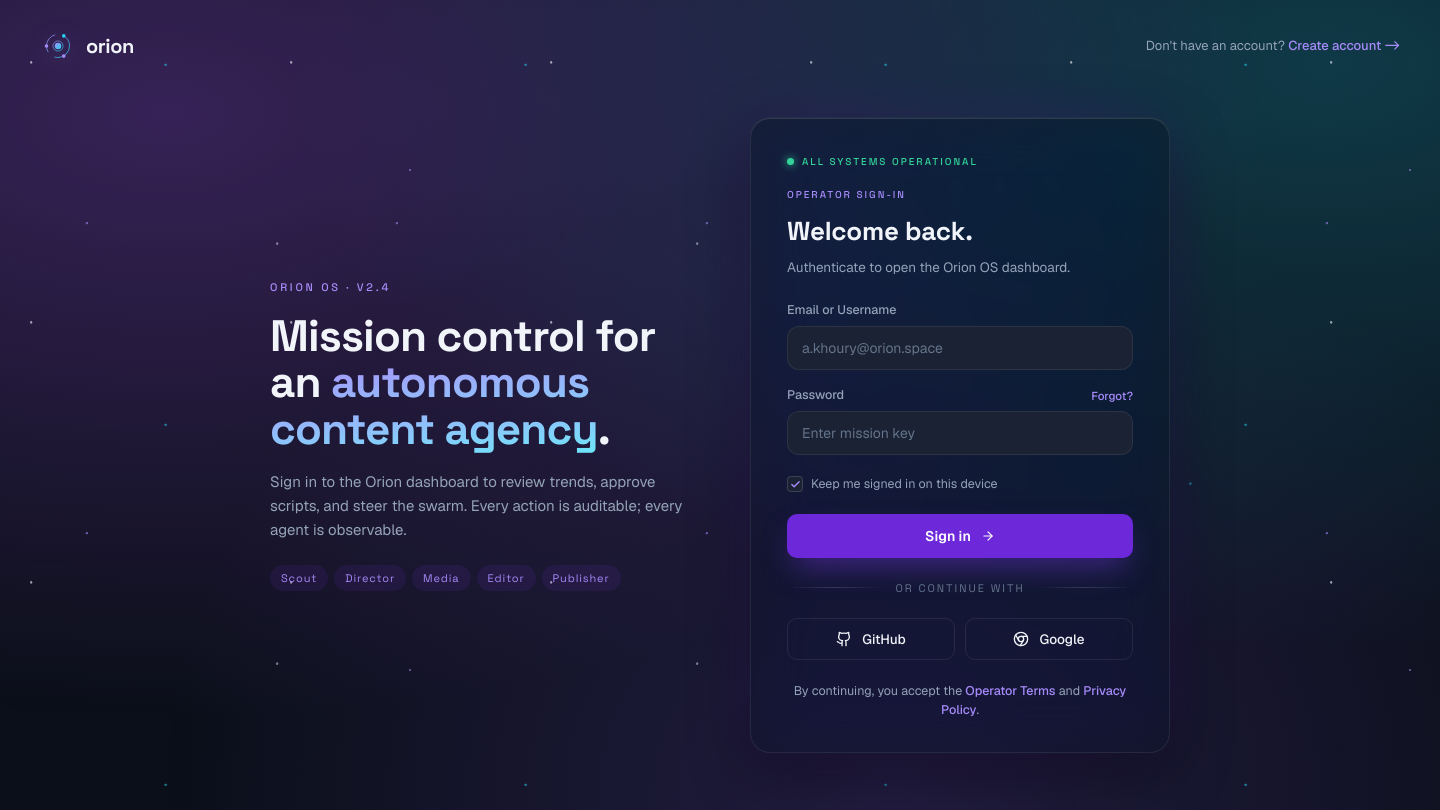
Test: Auth Flow Integration › shows loading state during login
Type "admin" into the field labelled "Email or Username" at (960, 348), box x1=787 y1=326 x2=1133 y2=370
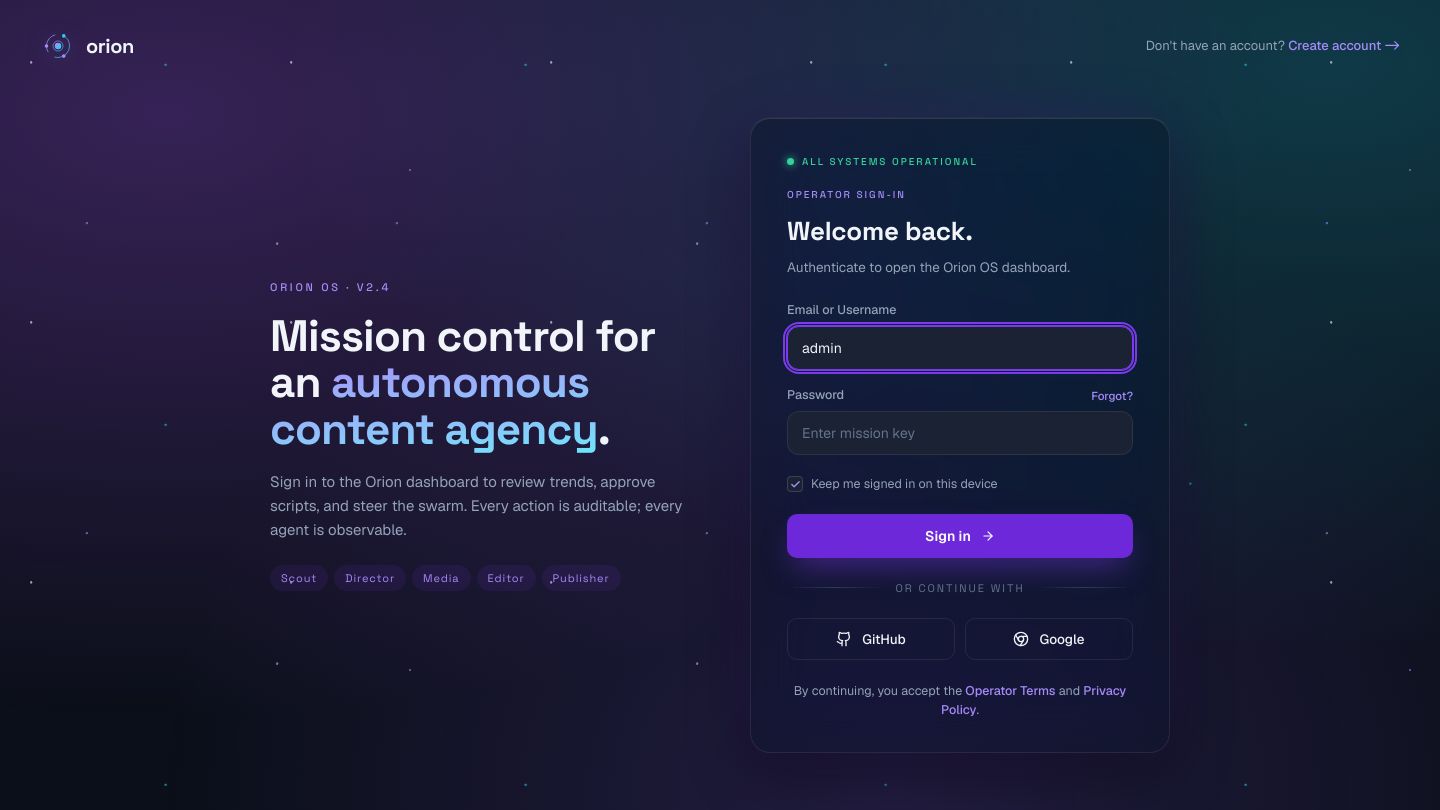
Type "secret" into the password field labelled "Password" at (960, 433), box x1=787 y1=411 x2=1133 y2=455
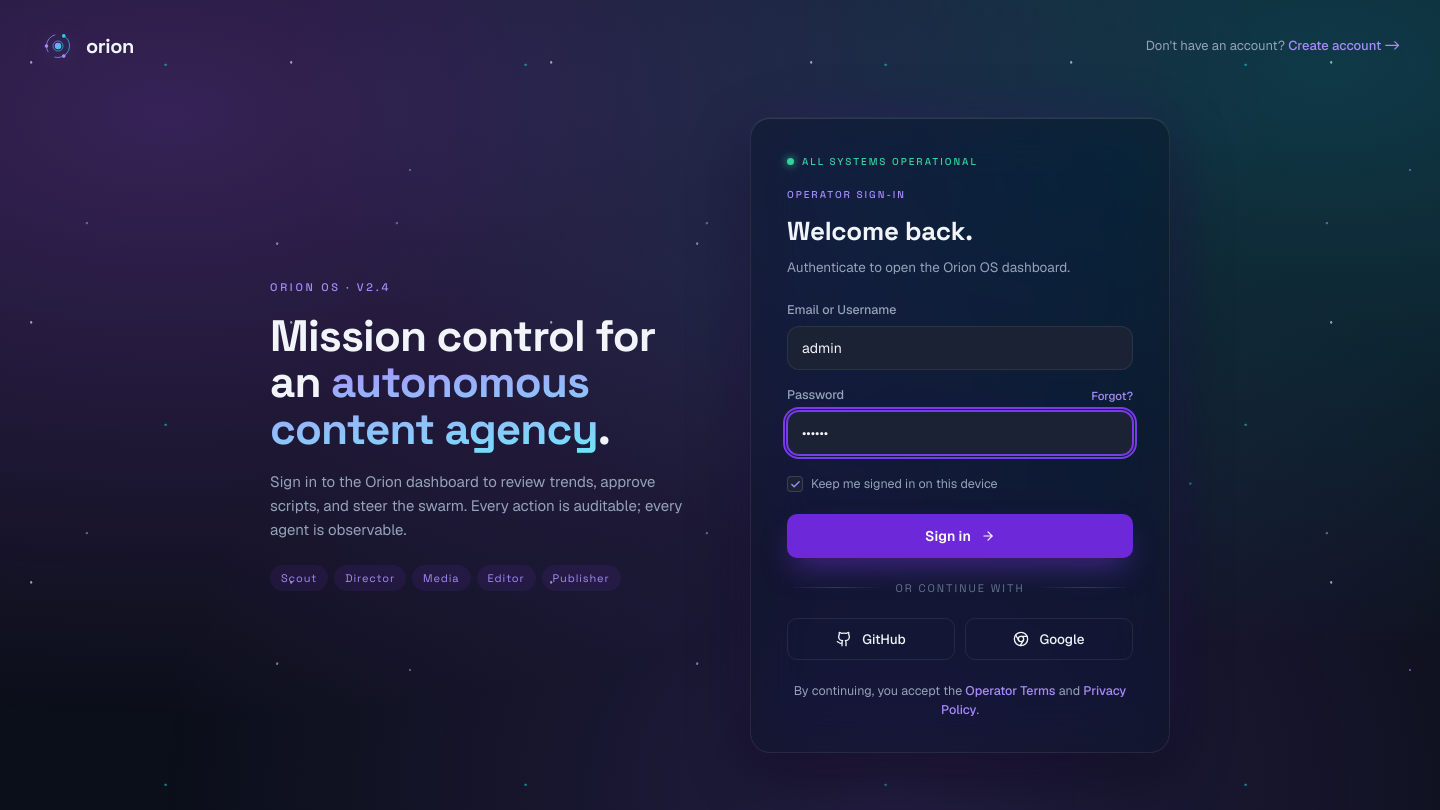
Click the button "Sign in" at (960, 536), box x1=787 y1=514 x2=1133 y2=558
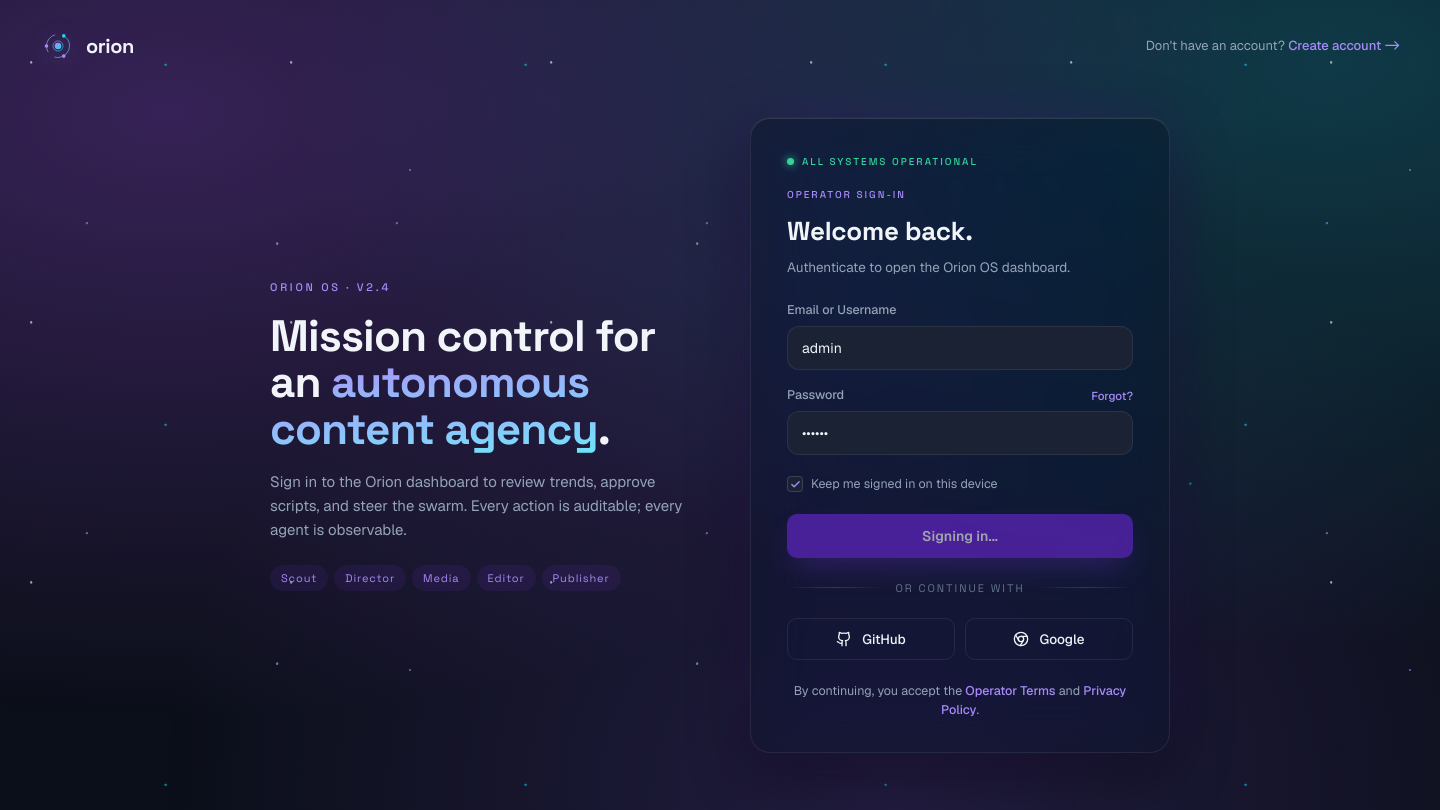
Expected: the button "Signing in..." is disabled, x1=787 y1=514 x2=1133 y2=558
